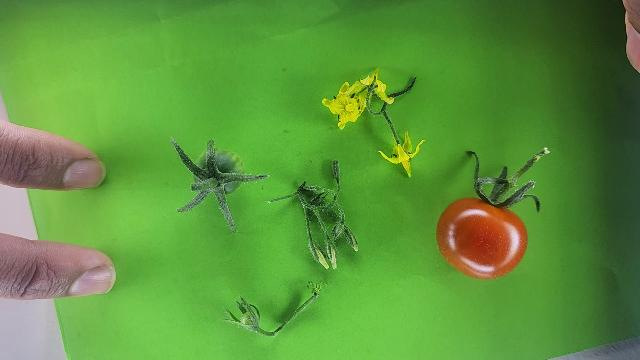Anthesis: (376, 130, 424, 178), (322, 79, 368, 128), (358, 68, 394, 105)
Flower Bud: (314, 246, 330, 270), (329, 247, 337, 269)
Fruit Bud: (240, 312, 253, 326)
Fruit Maturation: (196, 147, 247, 194)
Fully Grown: (434, 196, 530, 281)
